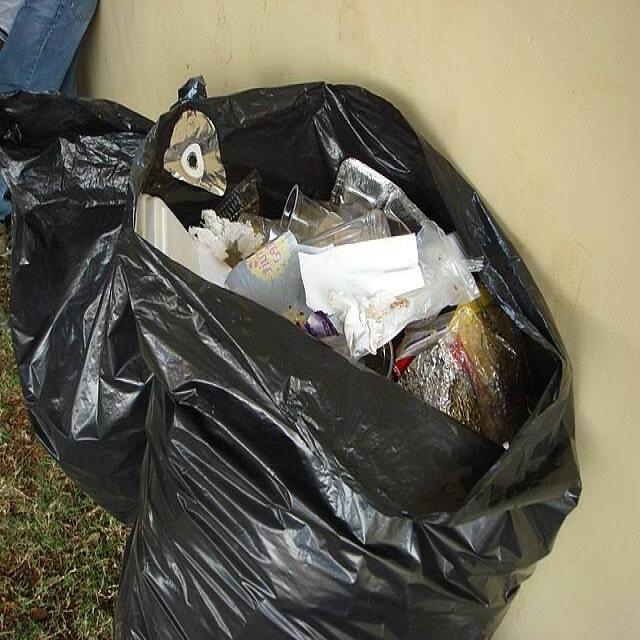plastic bag: (81, 84, 591, 632)
